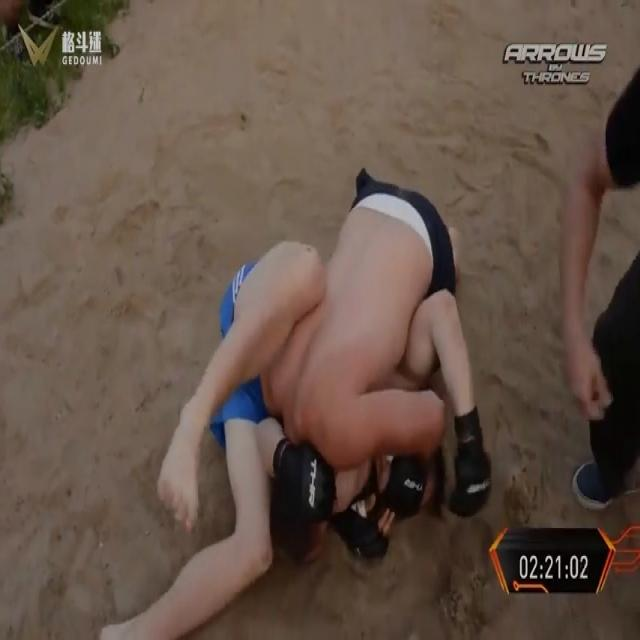fight: (99, 153, 489, 640)
